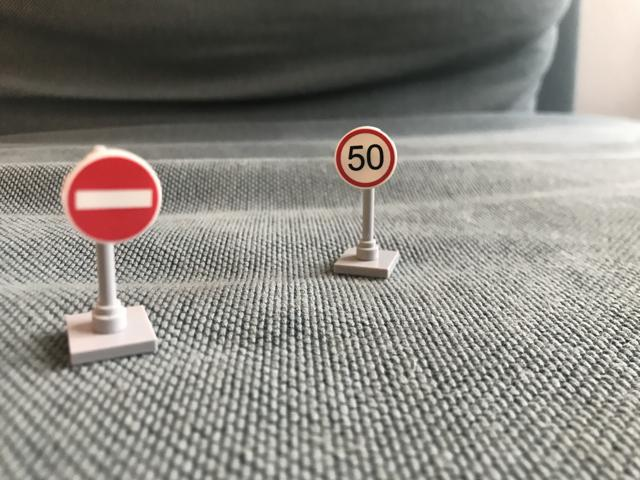tempolimit 50: (333, 126, 397, 191)
verbot der einfahrt: (62, 147, 164, 246)
